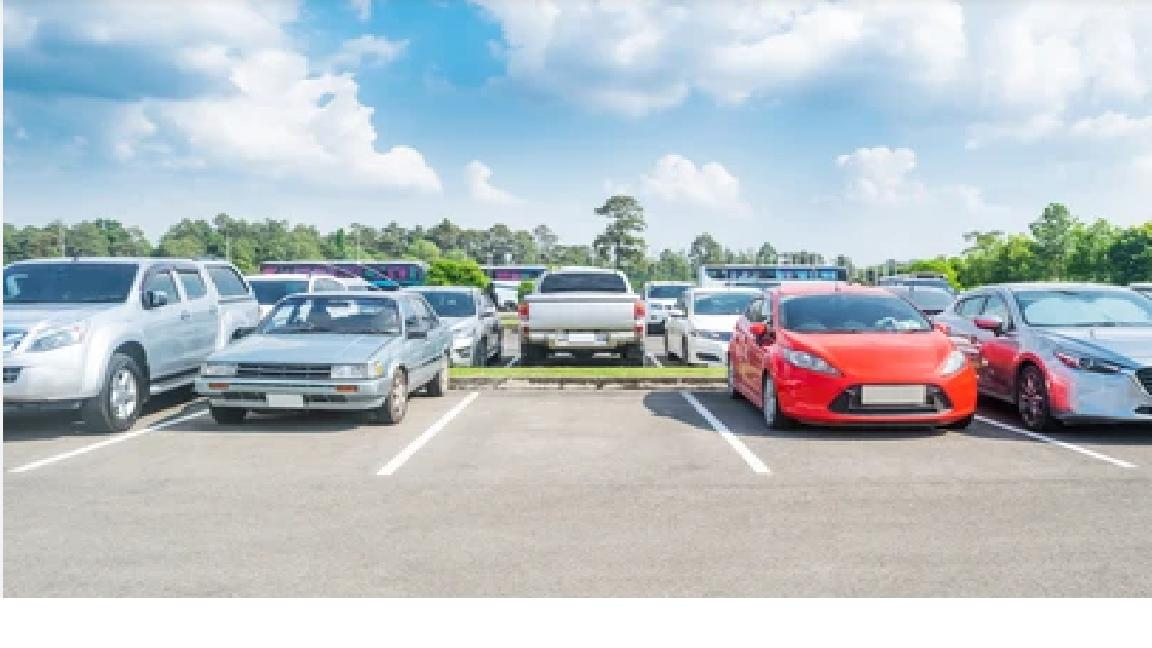empty: (415, 387, 758, 480)
occupied: (695, 272, 1004, 469), (3, 243, 251, 443), (197, 281, 453, 465), (930, 271, 1152, 444)
